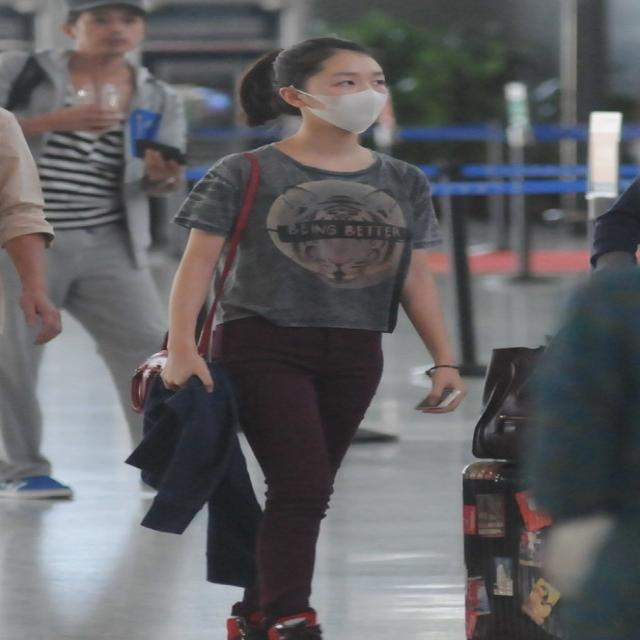mask: (306, 49, 388, 133)
nomask: (78, 0, 140, 60)
